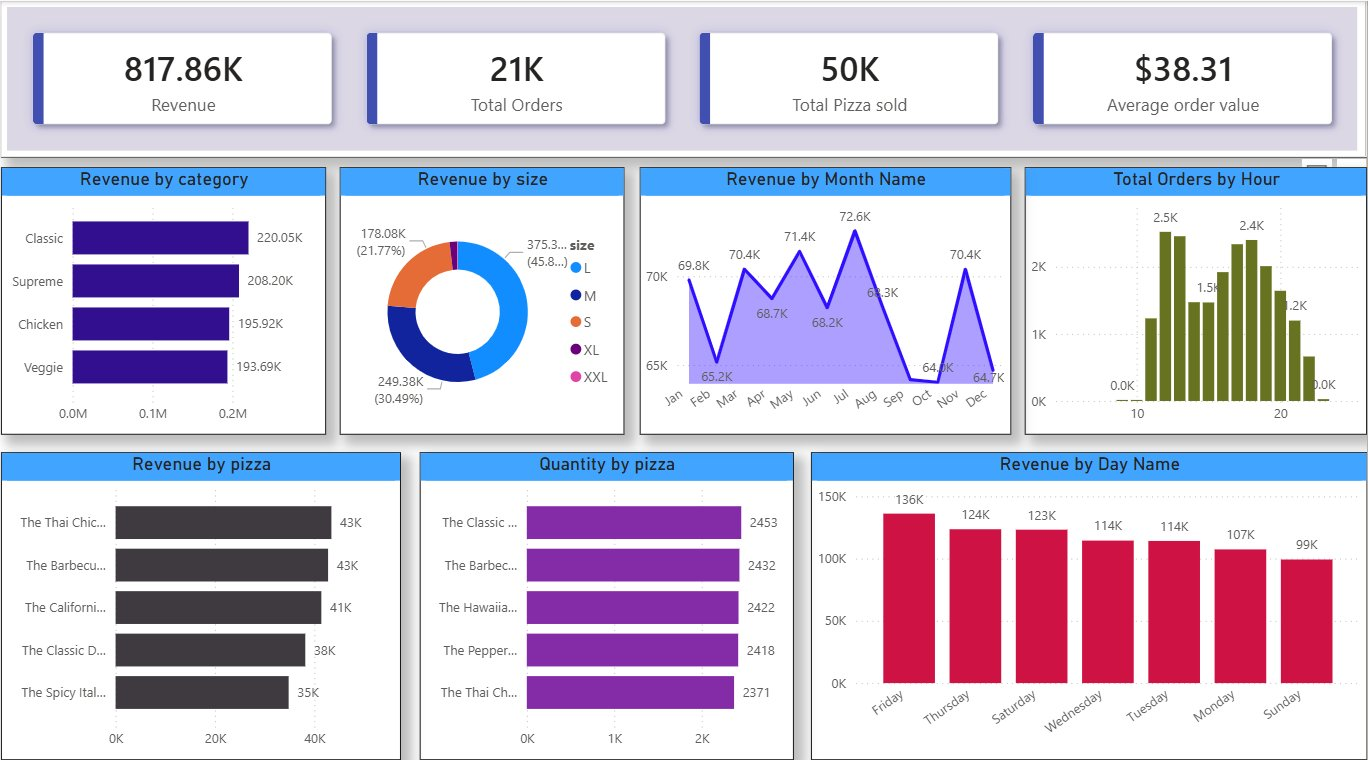

The page's visual inventory and layout, read from the dashboard file:
{"tool":"powerbi","page":{"name":"Page 1","canvas":[1280,720],"ordinal":0},"visuals":[{"type":"cardVisual","fields":{"Data":["order_details.Revenue","order_details.Total Orders","pizzas.Total Pizza sold","order_details.Average order value"]},"box":[9.6,0,1270.7,145.5],"z":0},{"type":"clusteredBarChart","fields":{"Category":["pizza_types.category"],"Y":["order_details.Revenue"]},"box":[9.3,154.7,302.3,248.8],"z":1000},{"type":"donutChart","fields":{"Category":["pizzas.size"],"Y":["order_details.Revenue"]},"box":[324.4,154.7,265.1,248.8],"z":2000},{"type":"clusteredColumnChart","fields":{"Category":["orders.Hour"],"Y":["order_details.Total Orders"]},"box":[961.6,154.7,318.6,248.8],"z":3002},{"type":"columnChart","fields":{"Category":["orders.Day Name"],"Y":["order_details.Revenue"]},"box":[762.8,419.8,517.4,286],"z":3003},{"type":"clusteredBarChart","title":"Quantity by pizza","fields":{"Category":["pizza_types.name"],"Y":["Sum(order_details.quantity)"]},"box":[398.8,419.8,347.7,286],"z":3004},{"type":"areaChart","fields":{"Y":["order_details.Revenue"],"Category":["orders.Month Name"]},"box":[603.5,154.7,345.3,248.8],"z":3005},{"type":"clusteredBarChart","title":"Revenue by pizza","fields":{"Category":["pizza_types.name"],"Y":["order_details.Revenue"]},"box":[9.3,419.8,372.1,286],"z":3006}]}

Visuals, with their boxes in screenshot pixels (x1, y1, x2, y2), scaled from the page's 1280x720 canvas onto the 1368x760 screenshot:
cardVisual - order_details.Revenue x order_details.Total Orders: crop(10, 0, 1367, 154)
clusteredBarChart - pizza_types.category x order_details.Revenue: crop(10, 163, 333, 426)
donutChart - pizzas.size x order_details.Revenue: crop(347, 163, 630, 426)
clusteredColumnChart - orders.Hour x order_details.Total Orders: crop(1028, 163, 1367, 426)
columnChart - orders.Day Name x order_details.Revenue: crop(815, 443, 1367, 745)
"Quantity by pizza" clusteredBarChart: crop(426, 443, 798, 745)
areaChart - order_details.Revenue x orders.Month Name: crop(645, 163, 1014, 426)
"Revenue by pizza" clusteredBarChart: crop(10, 443, 408, 745)
